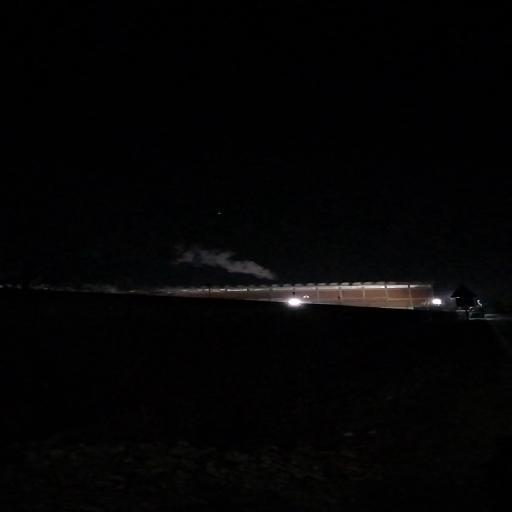leakage: (168, 236, 280, 282)
